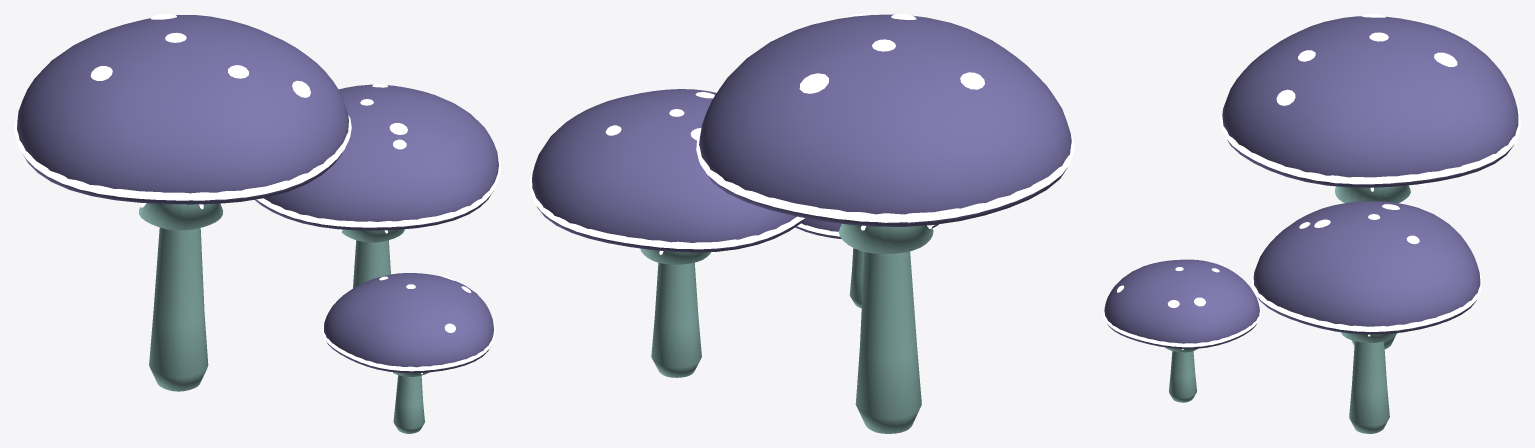
The model's file is SM_SF_GlowMushroomCluster_02.fbx.
3 views of the same model, side by side, from view 1: azimuth 30°, elevation 25°; view 2: azimuth 150°, elevation 25°; view 3: azimuth 270°, elevation 25° (orthographic). The views are drawn at different scales.
Visible parts, largest first — view 1: SM_SF_GlowMushroomCluster_02; view 2: SM_SF_GlowMushroomCluster_02; view 3: SM_SF_GlowMushroomCluster_02.
Part boxes in pixels (x1,y1,x2,y2): SM_SF_GlowMushroomCluster_02: (14, 14, 500, 433); SM_SF_GlowMushroomCluster_02: (529, 14, 1074, 433); SM_SF_GlowMushroomCluster_02: (1103, 14, 1520, 433).
Size of the model in its own units: 1.48 by 1.32 by 1.08.
